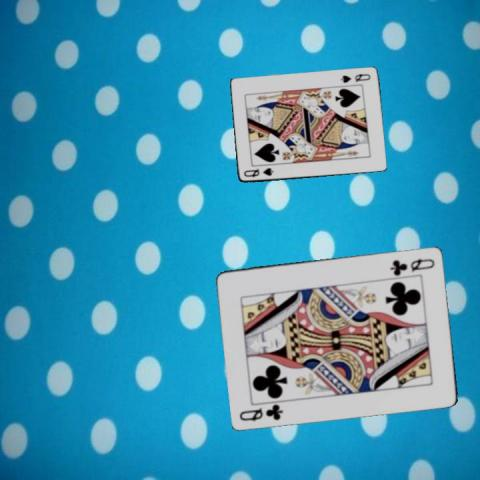Qc: (387, 255, 437, 276), (236, 401, 284, 422)
Qs: (338, 71, 372, 85), (241, 165, 274, 179)
